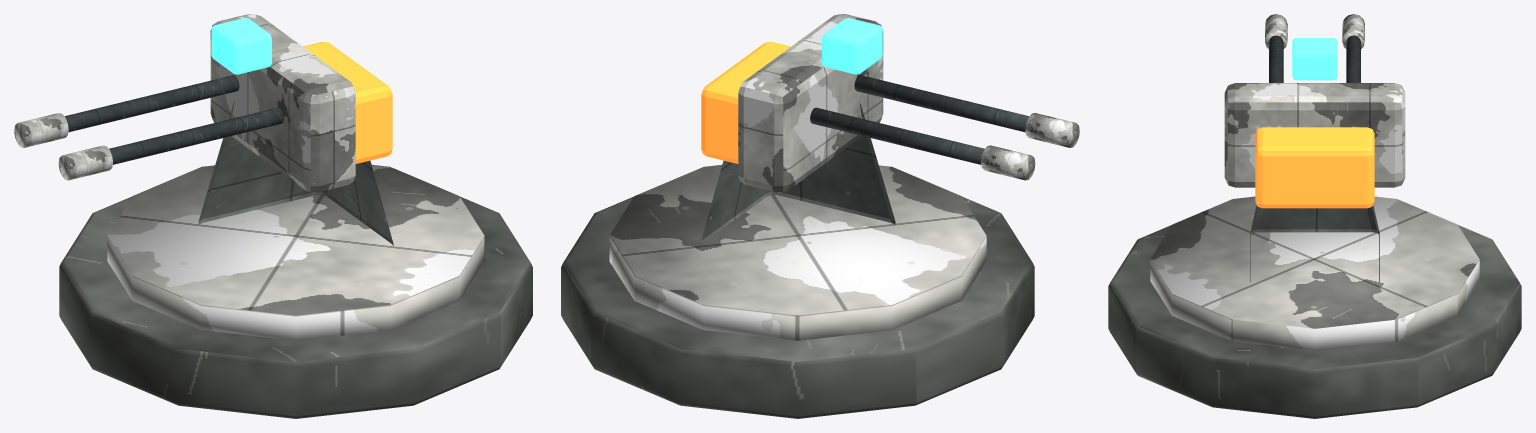
The model's file is machine_gun_turret.glb.
3 renders of one model, left to right at view 1: azimuth 30°, elevation 25°; view 2: azimuth 150°, elevation 25°; view 3: azimuth 270°, elevation 25°, orthographic. The views are drawn at different scales.
Visible parts, largest first — view 1: machine_gun_turret_body_team_primary, machine_gun_turret_body_concrete_dark, machine_gun_turret_turret_team_primary, machine_gun_turret_body_factory_metal, machine_gun_turret_turret_armor_dark, machine_gun_turret_turret_warning_emissive, machine_gun_turret_turret_glass_emissive, machine_gun_turret_turret_team_accent; view 2: machine_gun_turret_body_team_primary, machine_gun_turret_body_concrete_dark, machine_gun_turret_turret_team_primary, machine_gun_turret_body_factory_metal, machine_gun_turret_turret_armor_dark, machine_gun_turret_turret_warning_emissive, machine_gun_turret_turret_glass_emissive, machine_gun_turret_turret_team_accent; view 3: machine_gun_turret_body_team_primary, machine_gun_turret_body_concrete_dark, machine_gun_turret_turret_team_primary, machine_gun_turret_turret_warning_emissive, machine_gun_turret_body_factory_metal, machine_gun_turret_turret_glass_emissive, machine_gun_turret_turret_armor_dark, machine_gun_turret_turret_team_accent.
Boxes of the visible parts, bbox=[...] form: machine_gun_turret_body_team_primary: bbox=[107, 164, 484, 340]; machine_gun_turret_body_concrete_dark: bbox=[59, 196, 532, 418]; machine_gun_turret_turret_team_primary: bbox=[210, 14, 355, 192]; machine_gun_turret_body_factory_metal: bbox=[198, 102, 393, 245]; machine_gun_turret_turret_armor_dark: bbox=[65, 75, 283, 164]; machine_gun_turret_turret_warning_emissive: bbox=[303, 42, 392, 163]; machine_gun_turret_turret_glass_emissive: bbox=[211, 18, 271, 74]; machine_gun_turret_turret_team_accent: bbox=[14, 113, 112, 180]; machine_gun_turret_body_team_primary: bbox=[609, 164, 986, 340]; machine_gun_turret_body_concrete_dark: bbox=[561, 196, 1034, 418]; machine_gun_turret_turret_team_primary: bbox=[738, 14, 883, 192]; machine_gun_turret_body_factory_metal: bbox=[700, 102, 895, 245]; machine_gun_turret_turret_armor_dark: bbox=[810, 75, 1028, 164]; machine_gun_turret_turret_warning_emissive: bbox=[701, 42, 790, 163]; machine_gun_turret_turret_glass_emissive: bbox=[822, 18, 882, 74]; machine_gun_turret_turret_team_accent: bbox=[981, 113, 1079, 180]; machine_gun_turret_body_team_primary: bbox=[1150, 196, 1479, 350]; machine_gun_turret_body_concrete_dark: bbox=[1108, 225, 1521, 418]; machine_gun_turret_turret_team_primary: bbox=[1224, 83, 1405, 187]; machine_gun_turret_turret_warning_emissive: bbox=[1255, 127, 1374, 208]; machine_gun_turret_body_factory_metal: bbox=[1250, 205, 1379, 282]; machine_gun_turret_turret_glass_emissive: bbox=[1292, 38, 1337, 80]; machine_gun_turret_turret_armor_dark: bbox=[1269, 35, 1360, 82]; machine_gun_turret_turret_team_accent: bbox=[1265, 14, 1364, 48].
Bounding box in the file's own units: 3.35 × 2.13 × 3.
7 materials, 5 textured.
